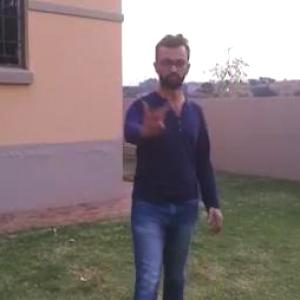takeoff-hand: (133, 83, 175, 139)
